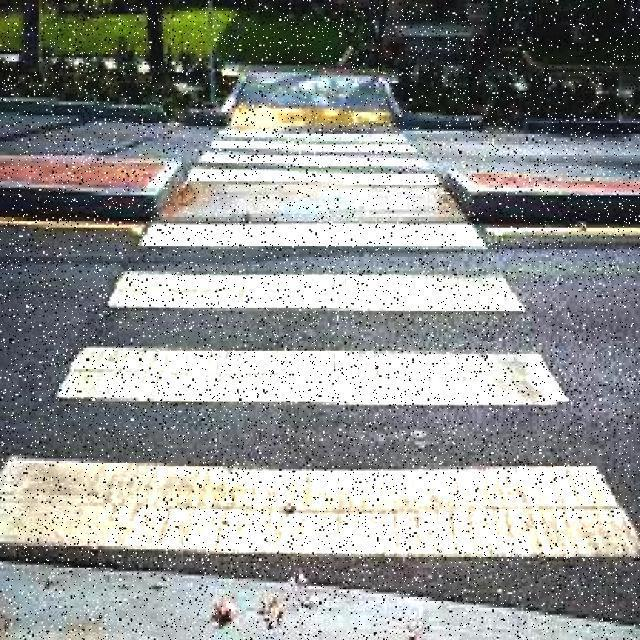Pedestrian crosswalk: (2, 131, 640, 554)
